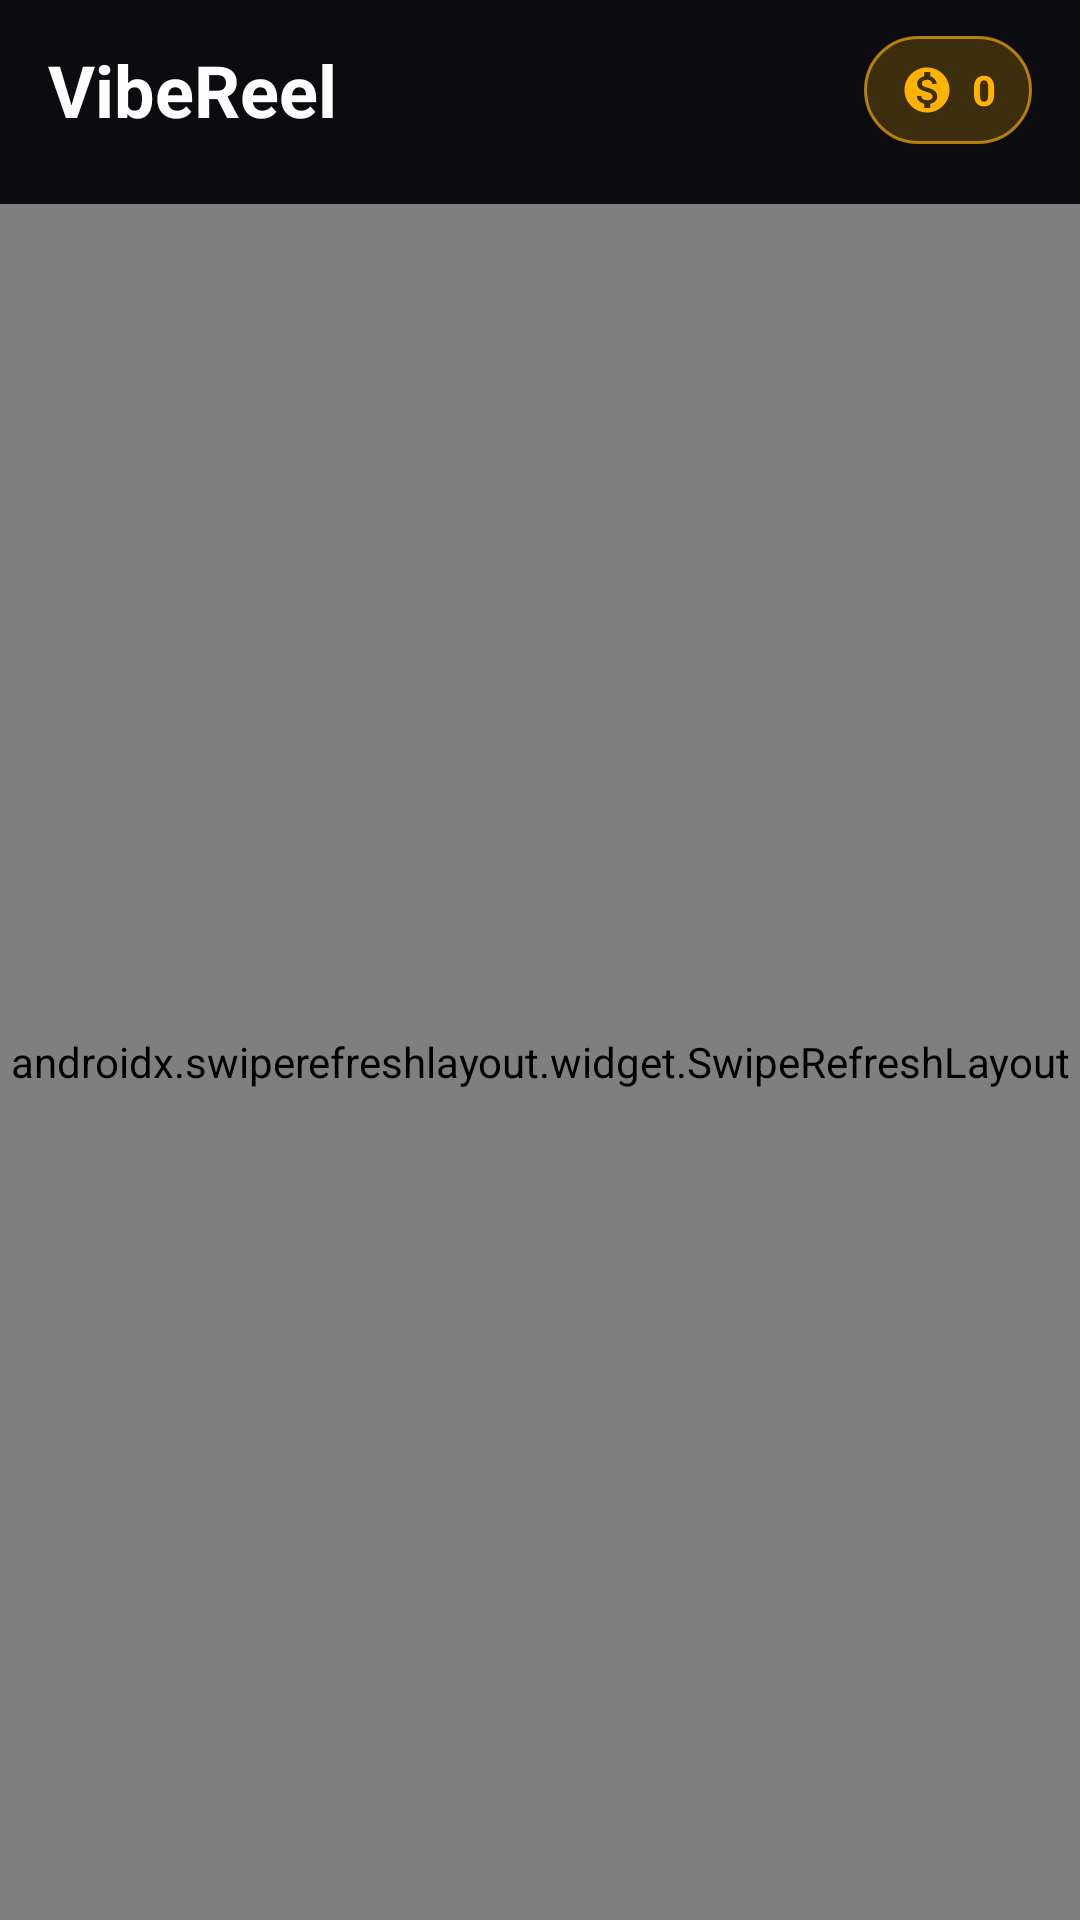

Screen size 1080*1920. Icon name, then its box in pixels as [x1, y1, x2, y2]:
Creator Coin Wallet: [904, 67, 950, 113]
